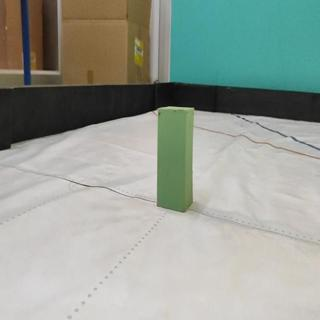greenbox: (156, 105, 196, 213)
